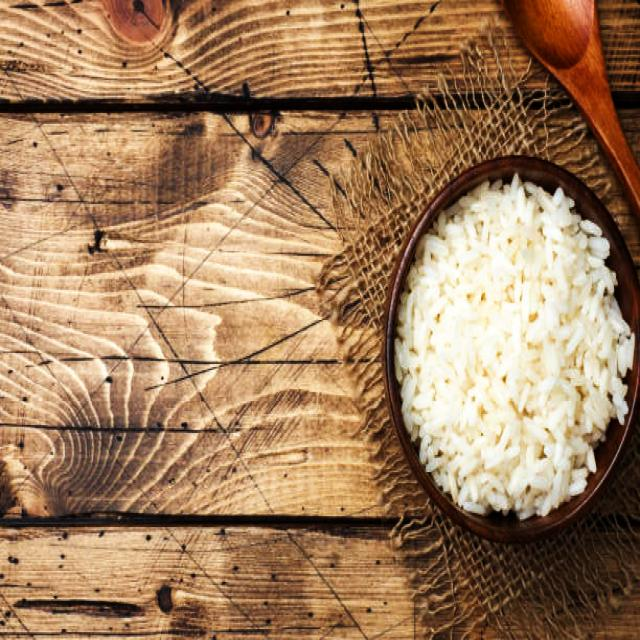rice: (396, 171, 636, 519)
